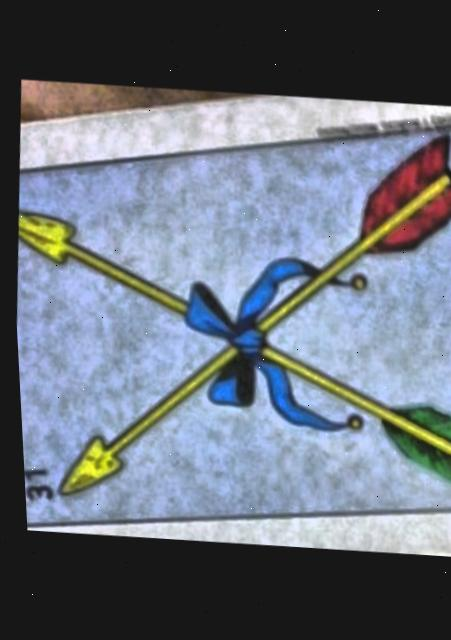Las Jaras: (13, 133, 451, 524)
